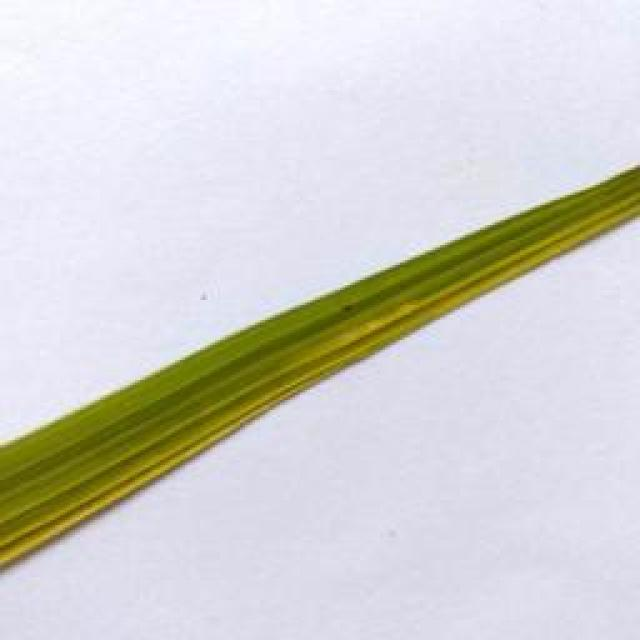Bacterial_Blight: (0, 188, 640, 580)
Brown_Spot: (330, 293, 360, 321)
